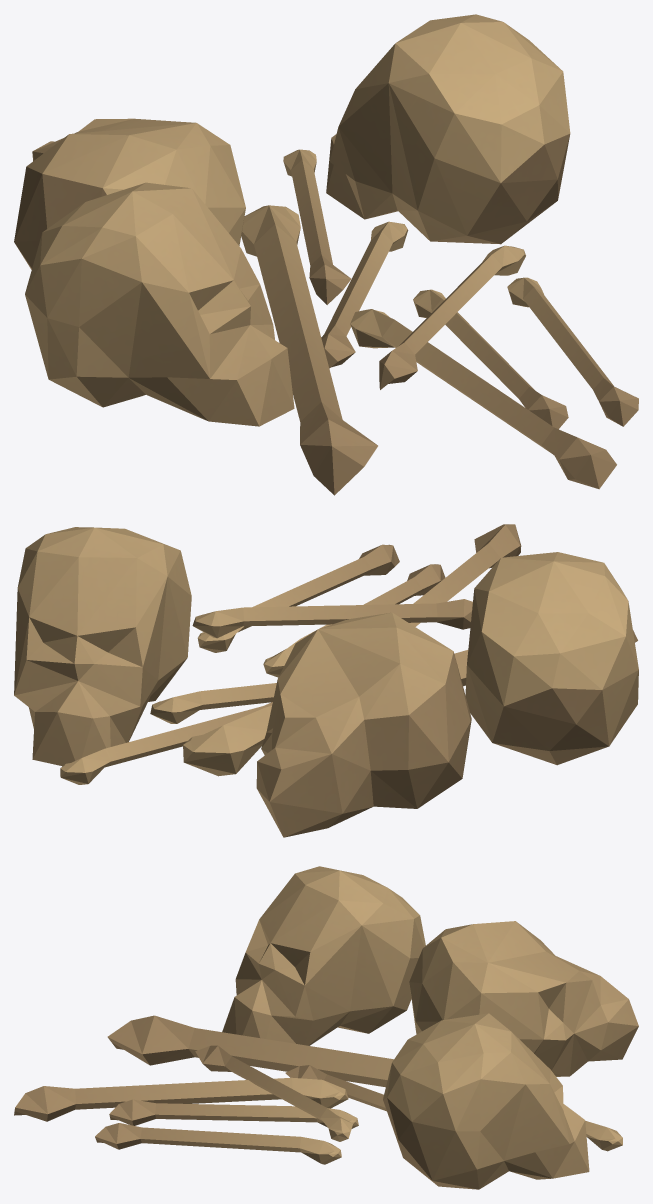
The model's file is Skull_4B.fbx.
3 renders of one model, top to bottom at view 1: azimuth 30°, elevation 25°; view 2: azimuth 150°, elevation 25°; view 3: azimuth 270°, elevation 25°, orthographic. The views are drawn at different scales.
Parts seen in each view (by area): view 1: polySurface1405; view 2: polySurface1405; view 3: polySurface1405.
Boxes of the visible parts, x1,y1,x2,y2 form: polySurface1405: (14, 14, 638, 495); polySurface1405: (14, 524, 638, 837); polySurface1405: (14, 866, 638, 1189).
Bounding box in the file's own units: 1.91 × 0.6612 × 2.29.
